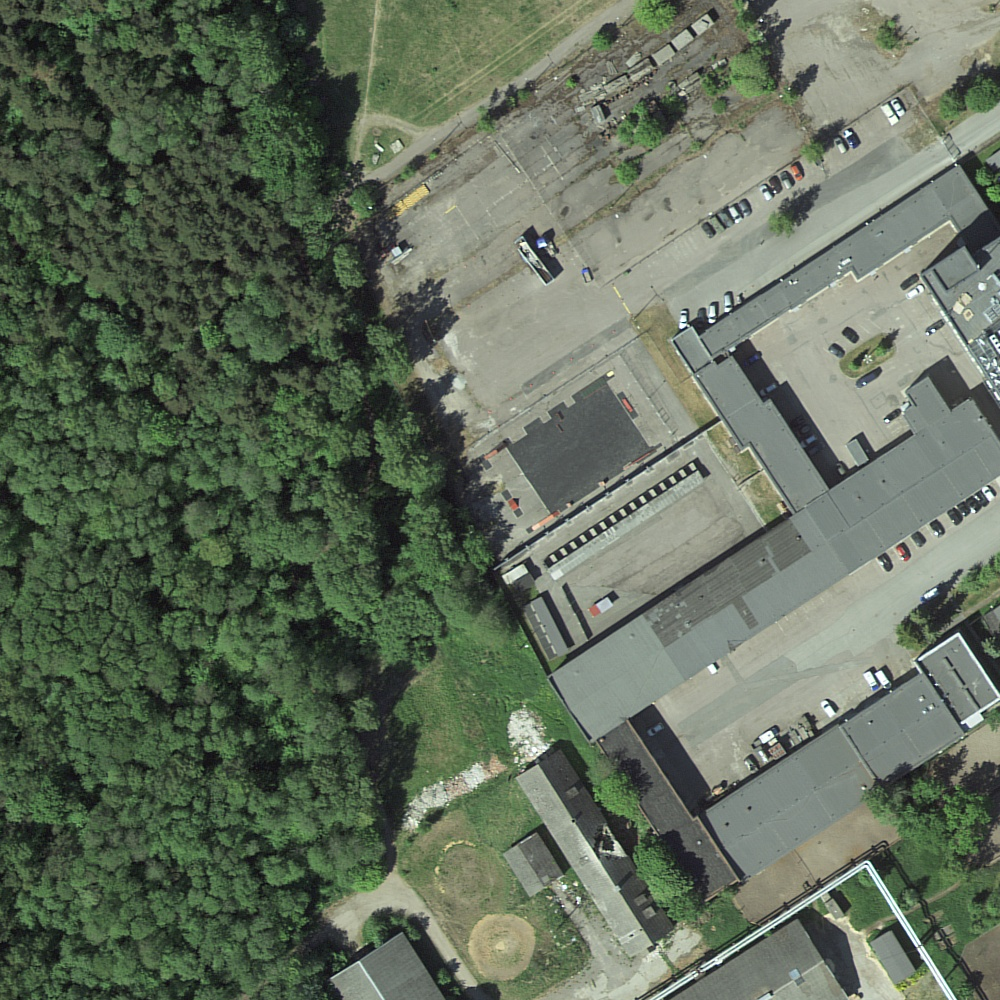building: (546, 165, 1000, 744), (595, 634, 998, 907), (516, 749, 675, 957), (669, 919, 849, 1000), (330, 932, 445, 999), (503, 833, 566, 896)
